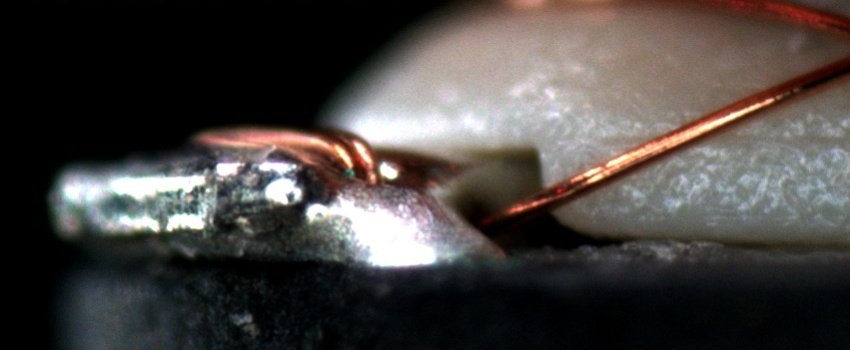DL: (600, 106, 849, 164)
TE: (200, 124, 386, 180)
